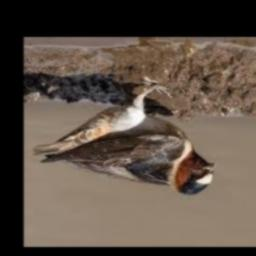Swallow: (35, 86, 216, 195)
